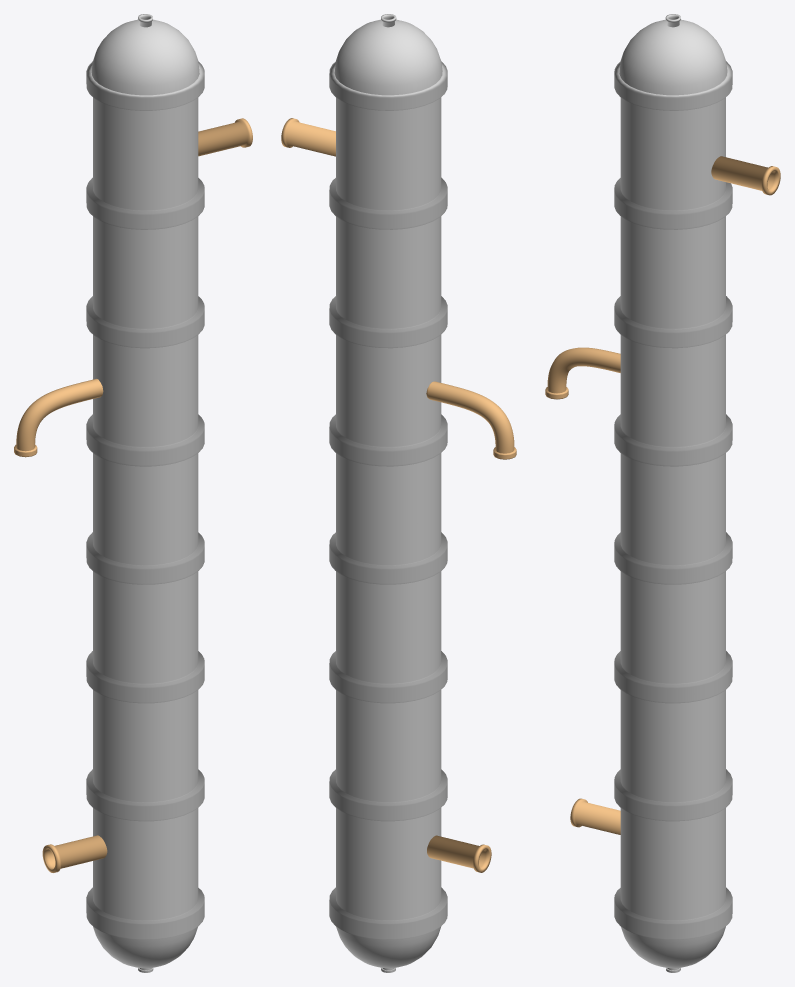
Rendered from asset.glb.
The picture shows the model from 3 angles, left to right: view 1: azimuth 30°, elevation 25°; view 2: azimuth 150°, elevation 25°; view 3: azimuth 330°, elevation 25°; orthographic projection.
Parts seen in each view (by area): view 1: Cilindro principal, Parte superior, Parte inferior, Ponta curvado, Ponta inferior lado, Ponta superior lado; view 2: Cilindro principal, Parte superior, Ponta curvado, Parte inferior, Ponta inferior lado, Ponta superior lado; view 3: Cilindro principal, Parte superior, Parte inferior, Ponta curvado, Ponta superior lado, Ponta inferior lado.
Part boxes in pixels (<box>): Cilindro principal: <box>86,61,204,939</box>; Parte superior: <box>91,19,199,95</box>; Parte inferior: <box>93,926,197,968</box>; Ponta curvado: <box>14,378,103,457</box>; Ponta inferior lado: <box>42,835,107,872</box>; Ponta superior lado: <box>198,118,252,156</box>; Cilindro principal: <box>329,61,447,939</box>; Parte superior: <box>334,19,442,95</box>; Ponta curvado: <box>426,381,516,459</box>; Parte inferior: <box>336,926,441,968</box>; Ponta inferior lado: <box>427,835,491,872</box>; Ponta superior lado: <box>281,118,335,156</box>; Cilindro principal: <box>614,61,732,939</box>; Parte superior: <box>619,19,727,95</box>; Parte inferior: <box>621,926,725,968</box>; Ponta curvado: <box>545,347,620,399</box>; Ponta superior lado: <box>711,156,780,195</box>; Ponta inferior lado: <box>570,798,620,834</box>.
Size of the model in its own units: 5.67 by 22.64 by 2.55.
